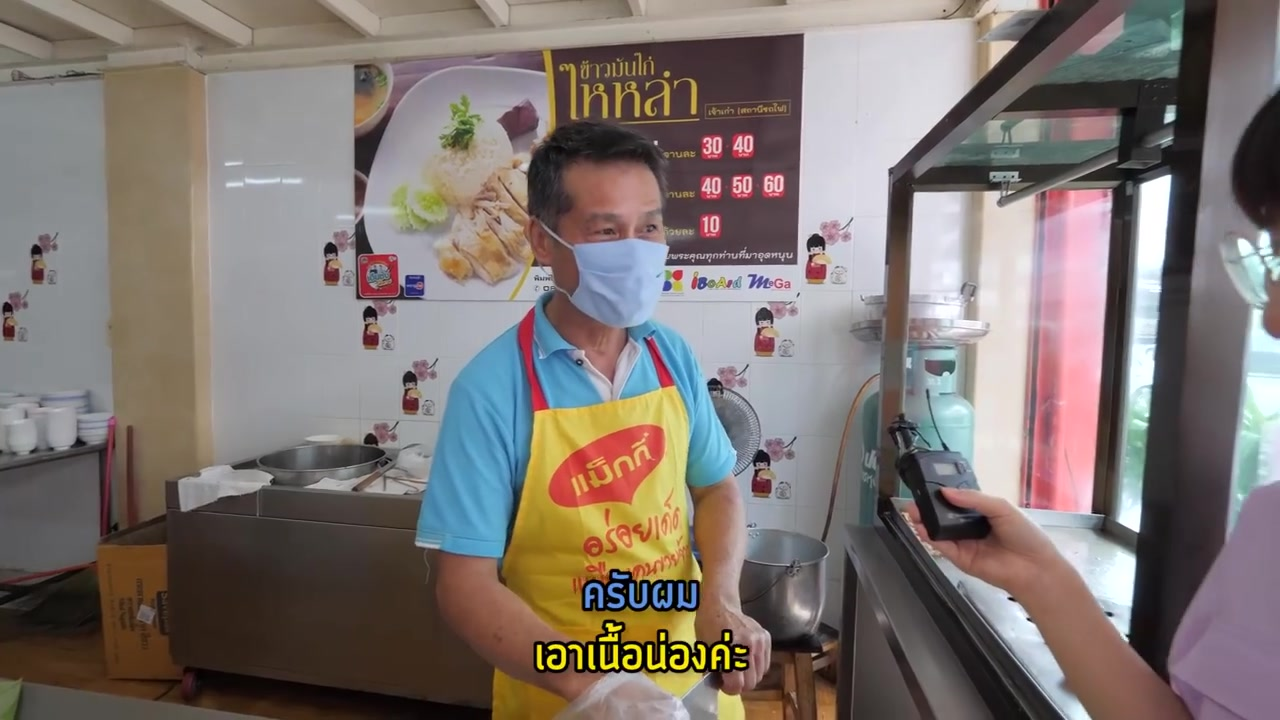text-label: (532, 617, 756, 674), (578, 563, 705, 615)
